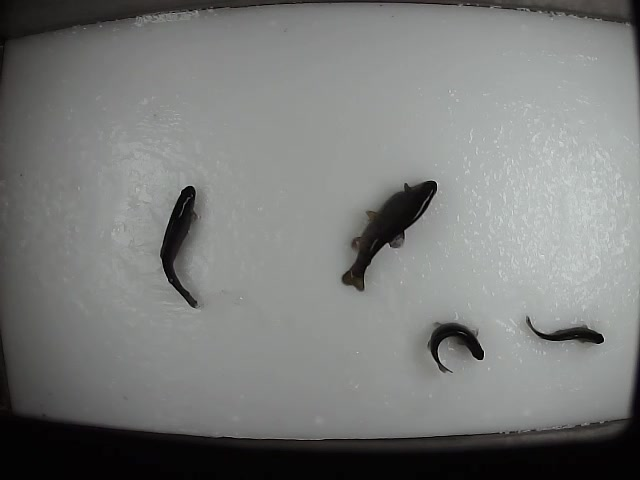Fish: (342, 180, 437, 291), (159, 185, 199, 310), (427, 322, 484, 373), (526, 316, 604, 344)
